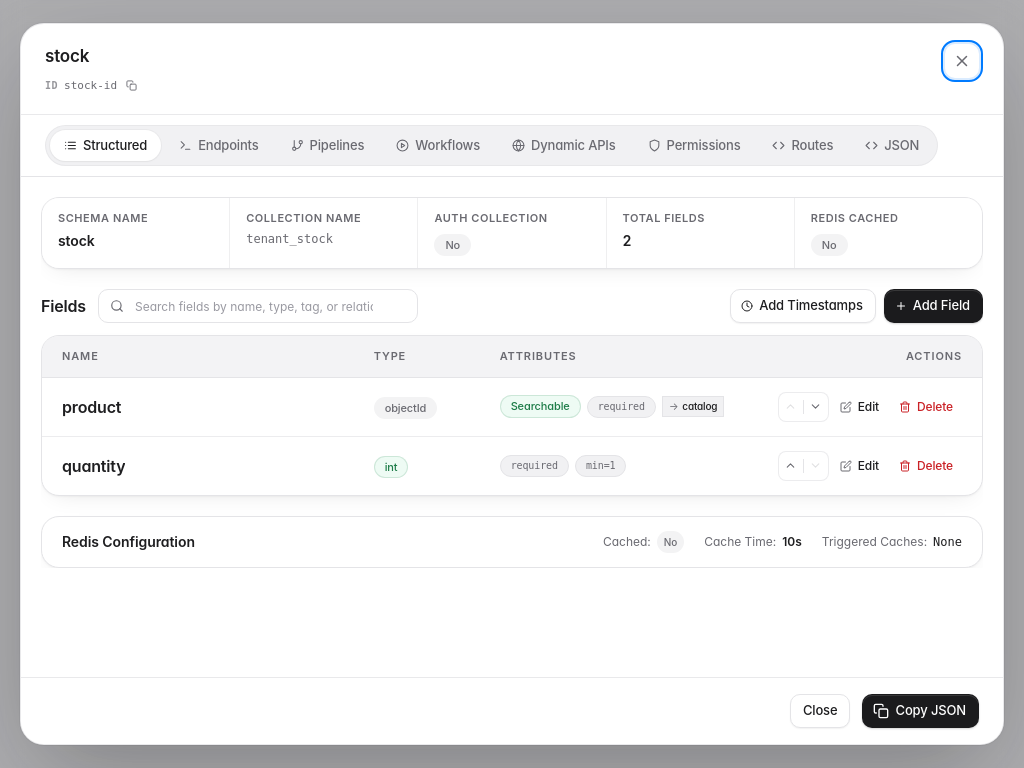
Test: ContainerDetailsModal › shows the configured workflow cache duration 5 in the Workflows tab
Click the tab "Workflows": (438, 145) [382,130,494,161]
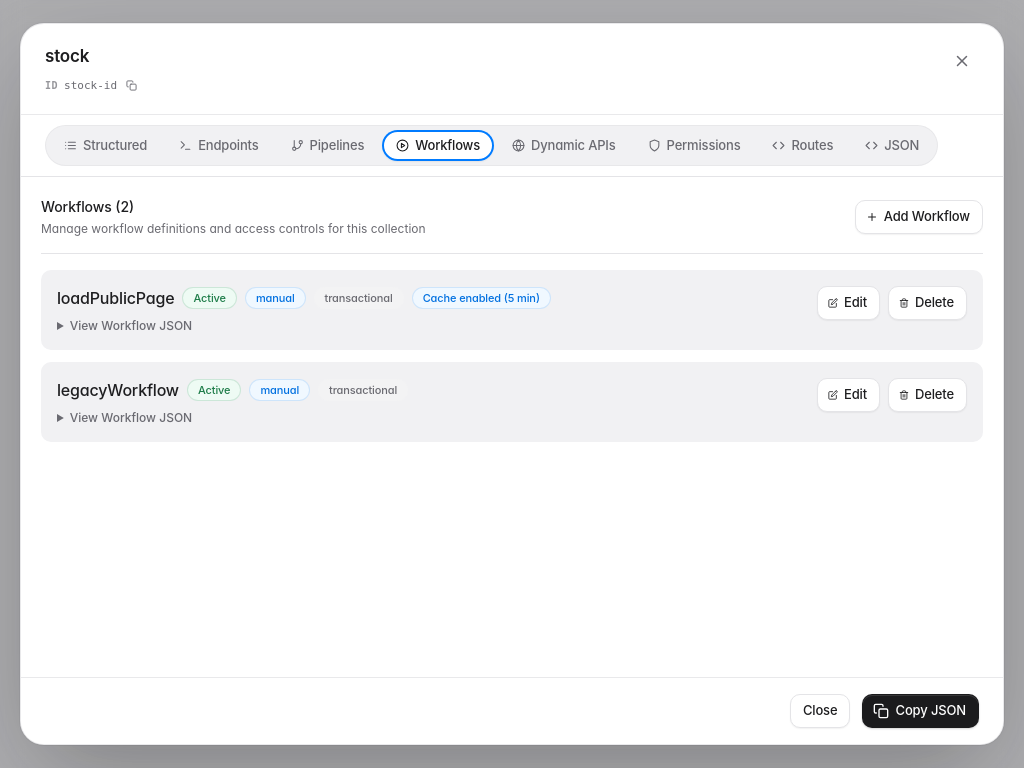
Now the text "Cache enabled (5 min)" is shown once, box [412,287,551,309]
